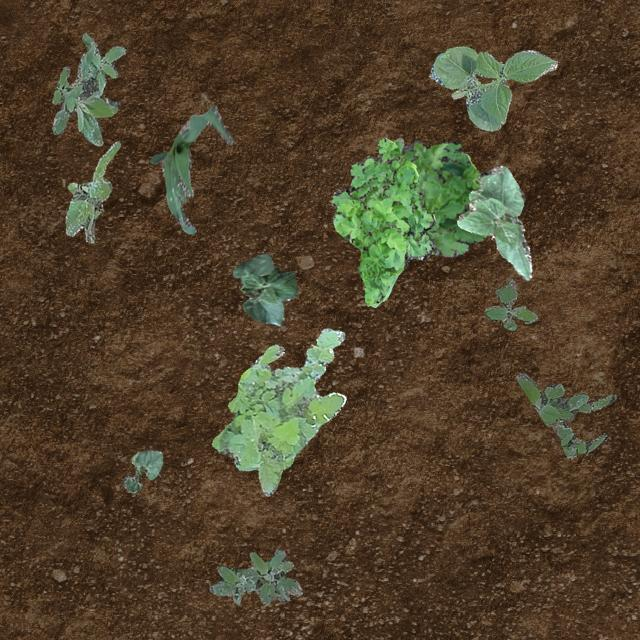crop: (429, 46, 556, 130), (150, 104, 232, 232), (456, 164, 530, 280), (232, 252, 296, 324), (122, 448, 162, 492)
weed: (212, 326, 344, 494), (330, 136, 434, 306), (392, 137, 486, 256), (514, 372, 614, 458), (51, 32, 126, 144), (64, 140, 120, 242), (208, 548, 302, 604), (484, 278, 536, 328), (462, 66, 476, 88)
